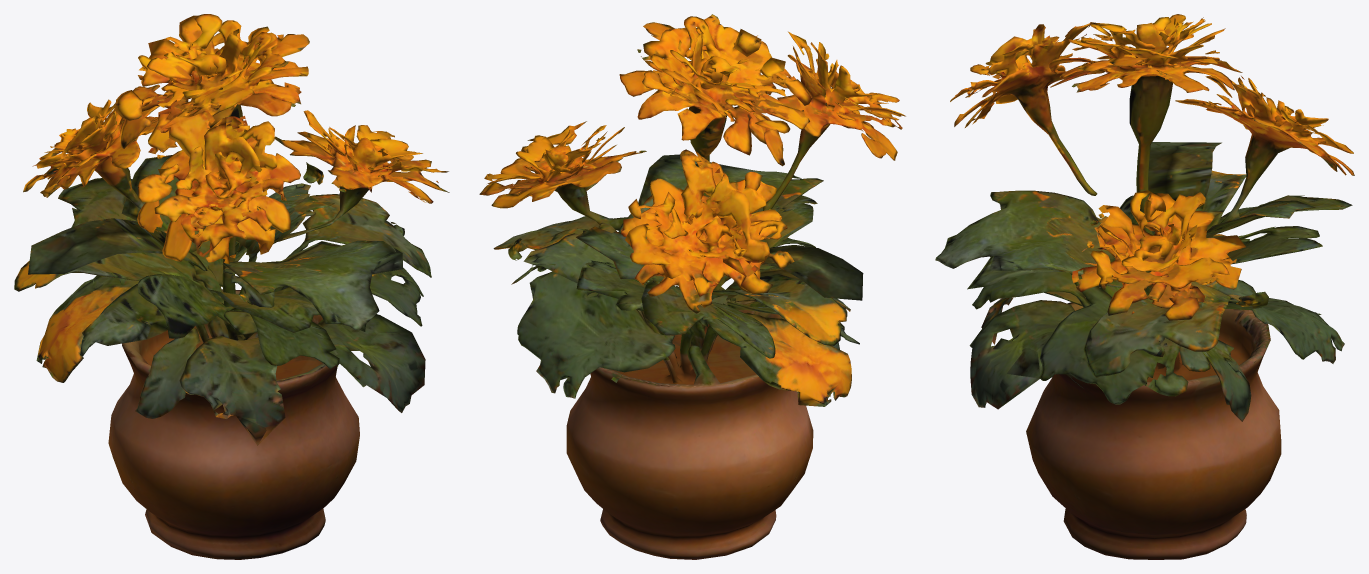
The model's file is marigold.glb.
3 views of the same model, side by side, from view 1: azimuth 30°, elevation 25°; view 2: azimuth 150°, elevation 25°; view 3: azimuth 270°, elevation 25° (orthographic). The views are drawn at different scales.
Bounding box in the file's own units: 1.63 × 1.98 × 1.5.
1 material, 1 textured.
